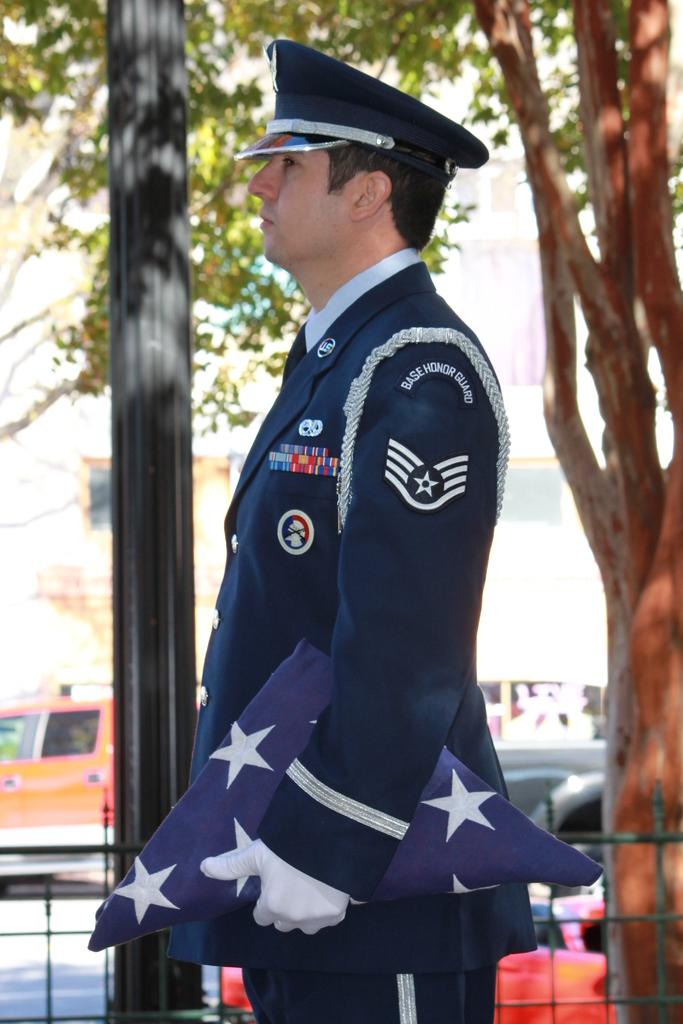Hat: (237, 39, 489, 182)
